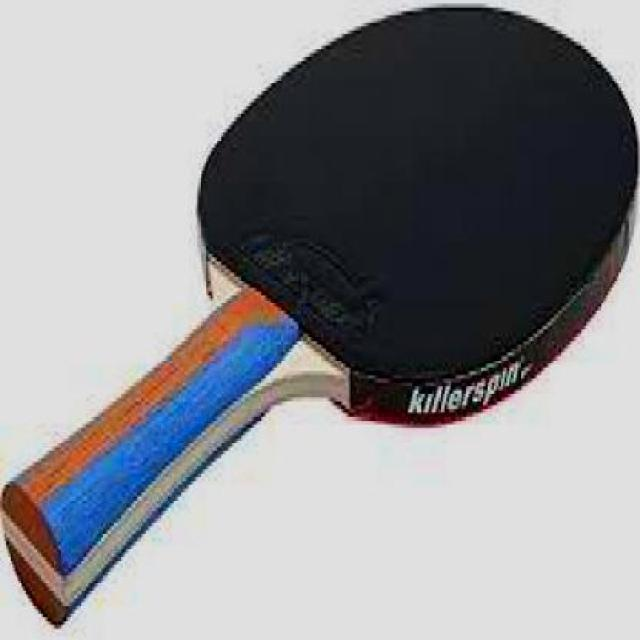table_tennis_racket: (196, 2, 638, 426)
